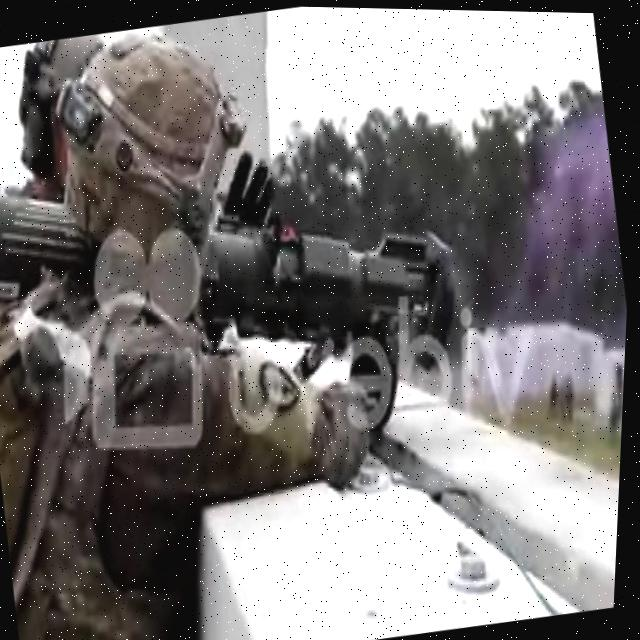rocket: (0, 110, 483, 424)
